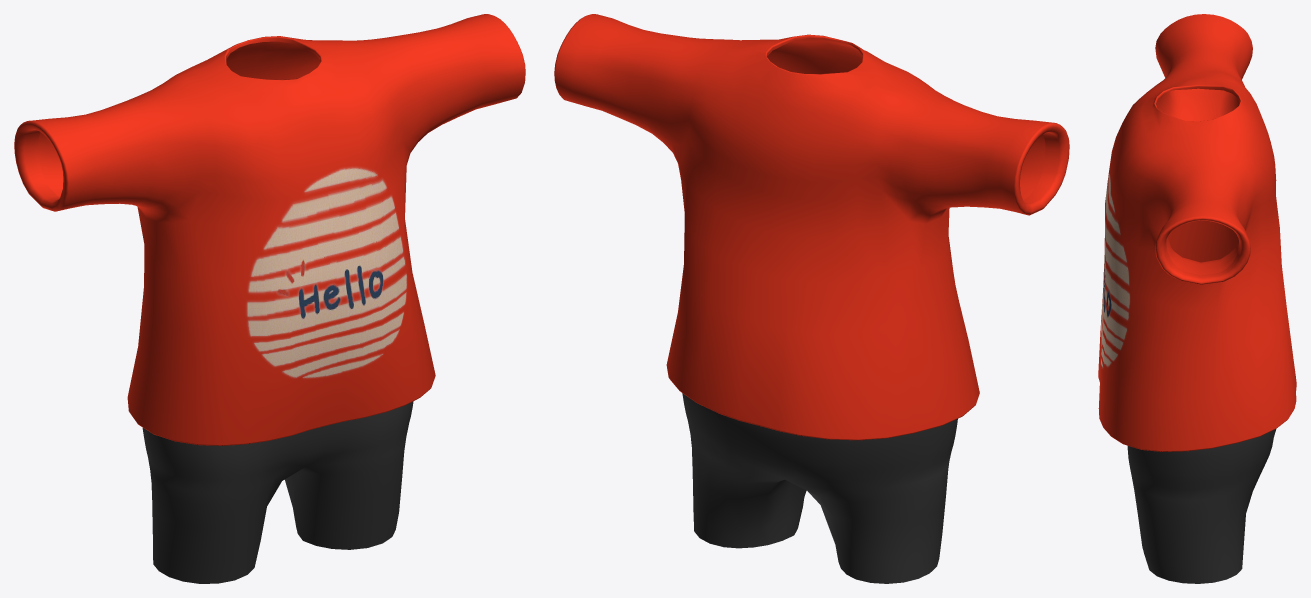
Rendered from Clothes 01.fbx.
3 renders of one model, left to right at view 1: azimuth 30°, elevation 25°; view 2: azimuth 150°, elevation 25°; view 3: azimuth 270°, elevation 25°, orthographic. The views are drawn at different scales.
Parts seen in each view (by area): view 1: Clothes_01; view 2: Clothes_01; view 3: Clothes_01.
Boxes of the visible parts, <box> form: Clothes_01: <box>14,14,525,583</box>; Clothes_01: <box>554,14,1069,583</box>; Clothes_01: <box>1098,14,1296,583</box>.
Bounding box in the file's own units: 0.9317 × 0.9432 × 0.3905.
1 material, 1 textured.
